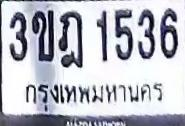1: (95, 10, 107, 62)
3: (8, 11, 27, 61), (137, 8, 155, 60)
5: (114, 9, 133, 60)
6: (160, 8, 178, 58)
A02: (32, 10, 54, 62)
A14: (58, 11, 83, 68)
BKK: (22, 78, 167, 114)
